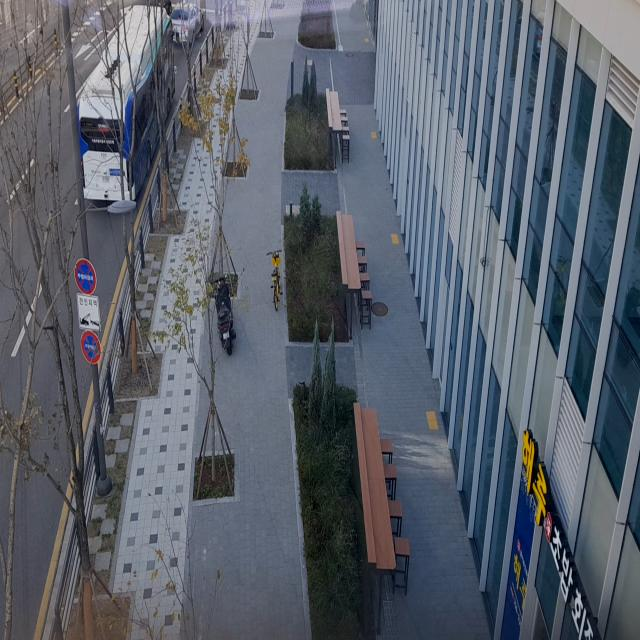Bus: (72, 0, 177, 218)
Car: (165, 0, 210, 53)
